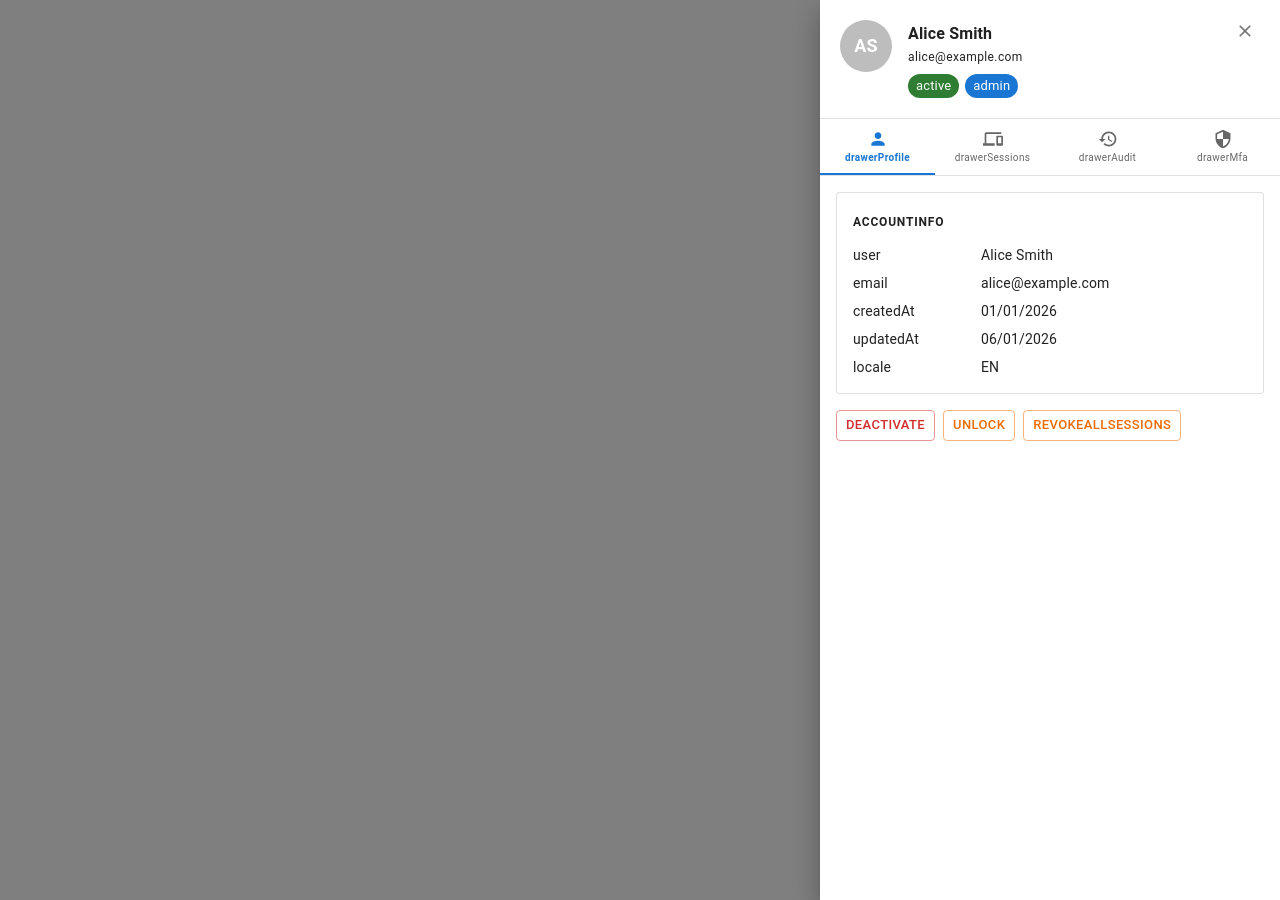
Test: UserProfileDrawer component › shows LinearProgress while sessions are loading
The width and height of the screenshot is (1280, 900).
What coordinates should you click on to do the following:
click the text "drawerSessions"
I would click on:
 (992, 158)
Its box is [955,153,1030,163].
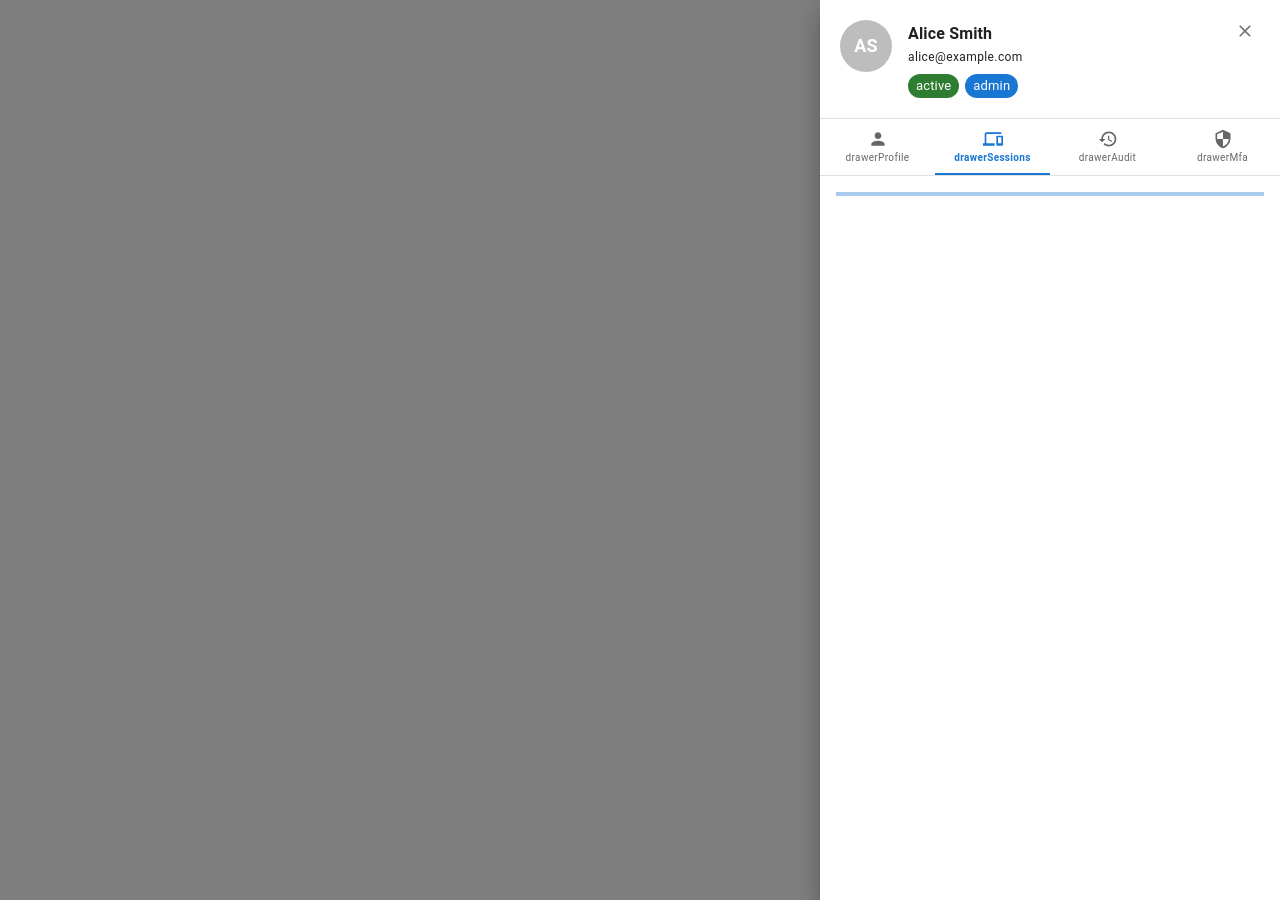
Expected: the progress indicator is shown, [836,192,1264,196]
